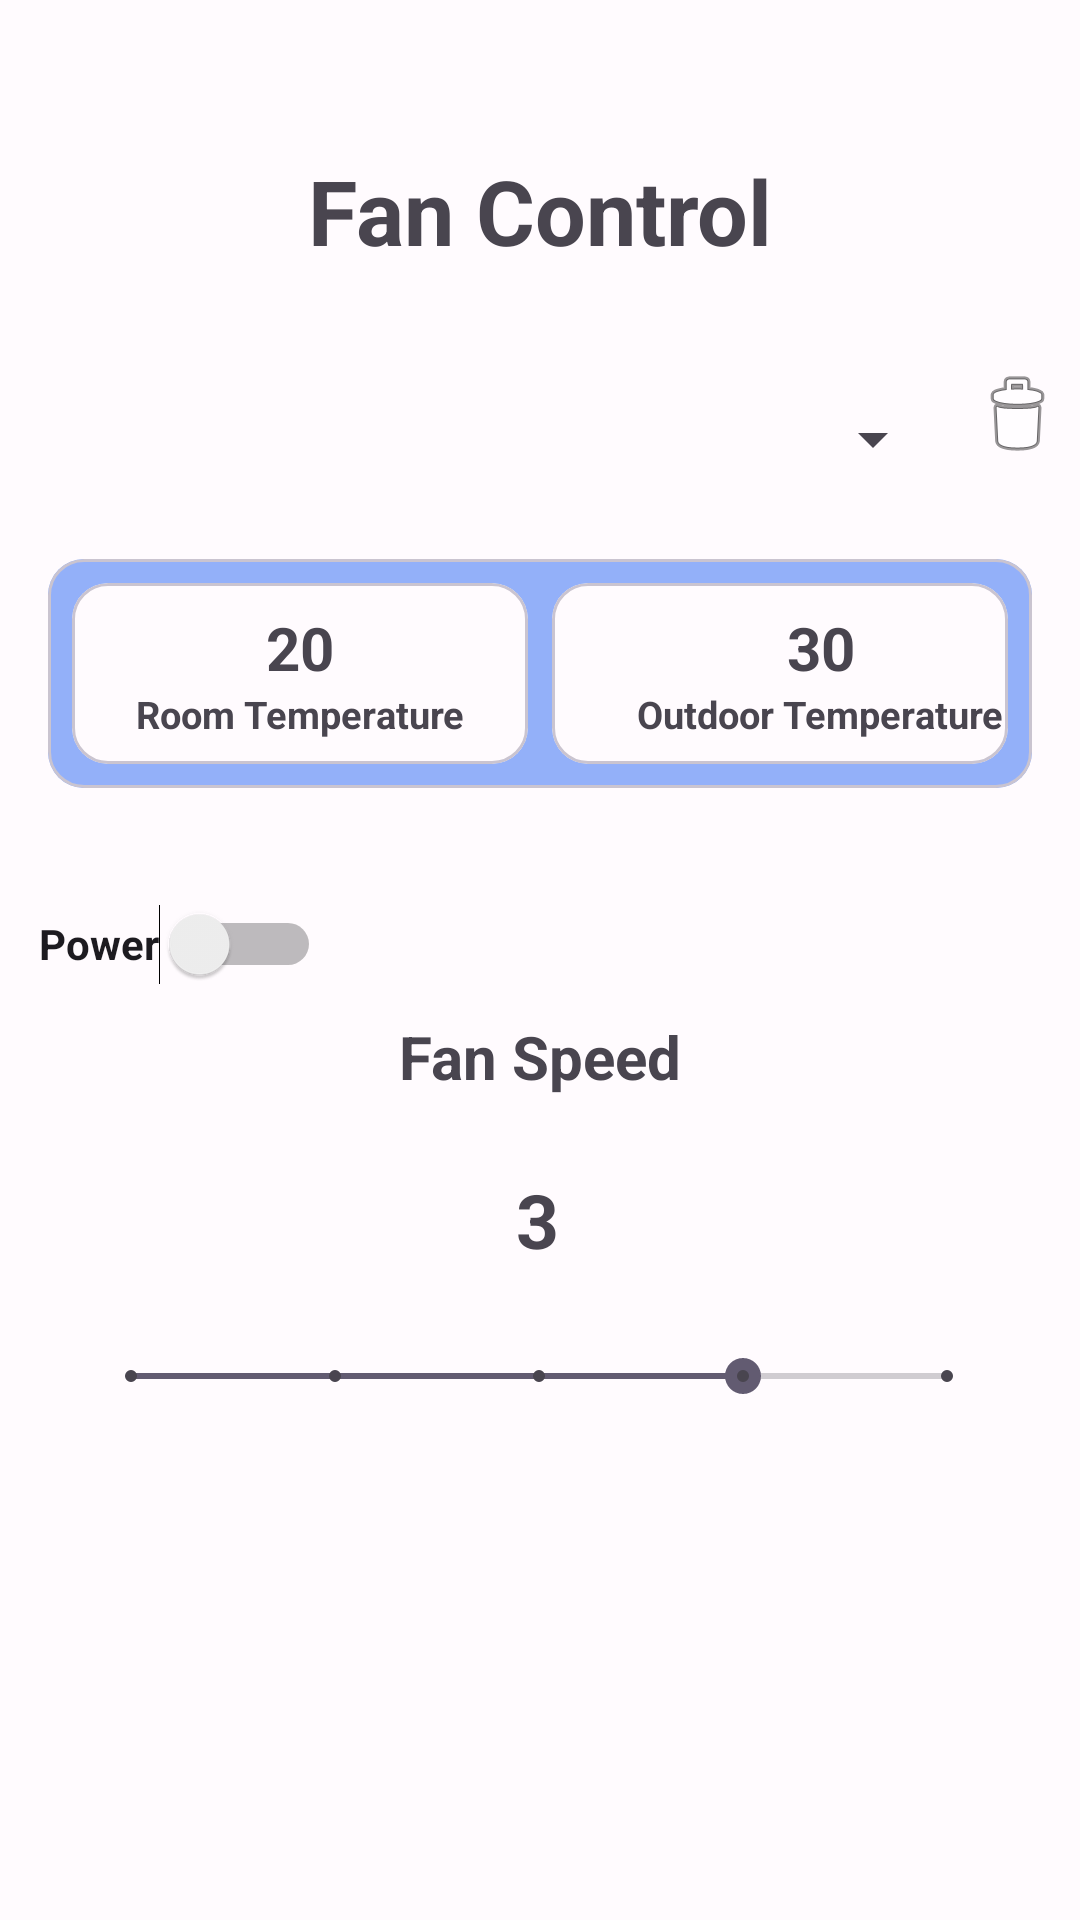

Locate icon controls on the screen. Image size 1080×1920, boxes as [x1,y1,x2,y2].
Delete device: [990,376,1045,451]
